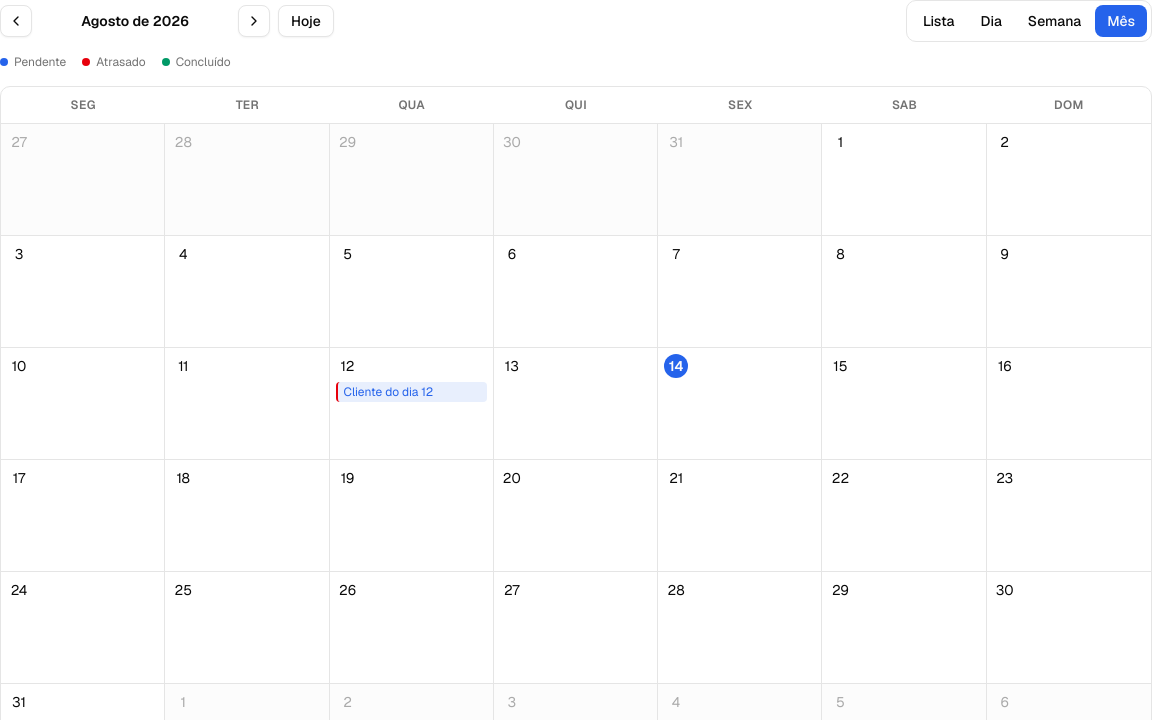
Test: Agenda2Calendario — diálogo do dia e ações do dono › fechar-dialogo: fechar remove o diálogo
Check: the text "Cliente do dia 12" is shown, box 344,384 -> 433,400
Step 1. Click the button with aria-label "12 de agosto" → (412, 404), box 330,348 -> 494,460
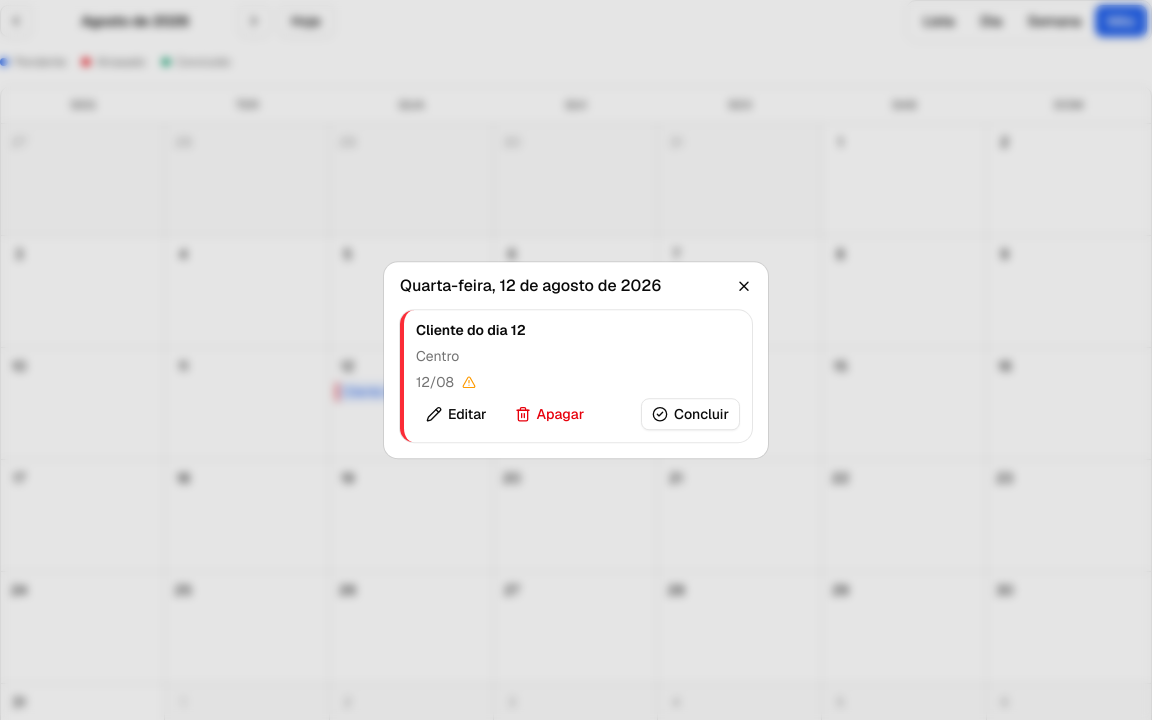
Step 2. Click the button named "close" → (744, 286), box 728,270 -> 760,302
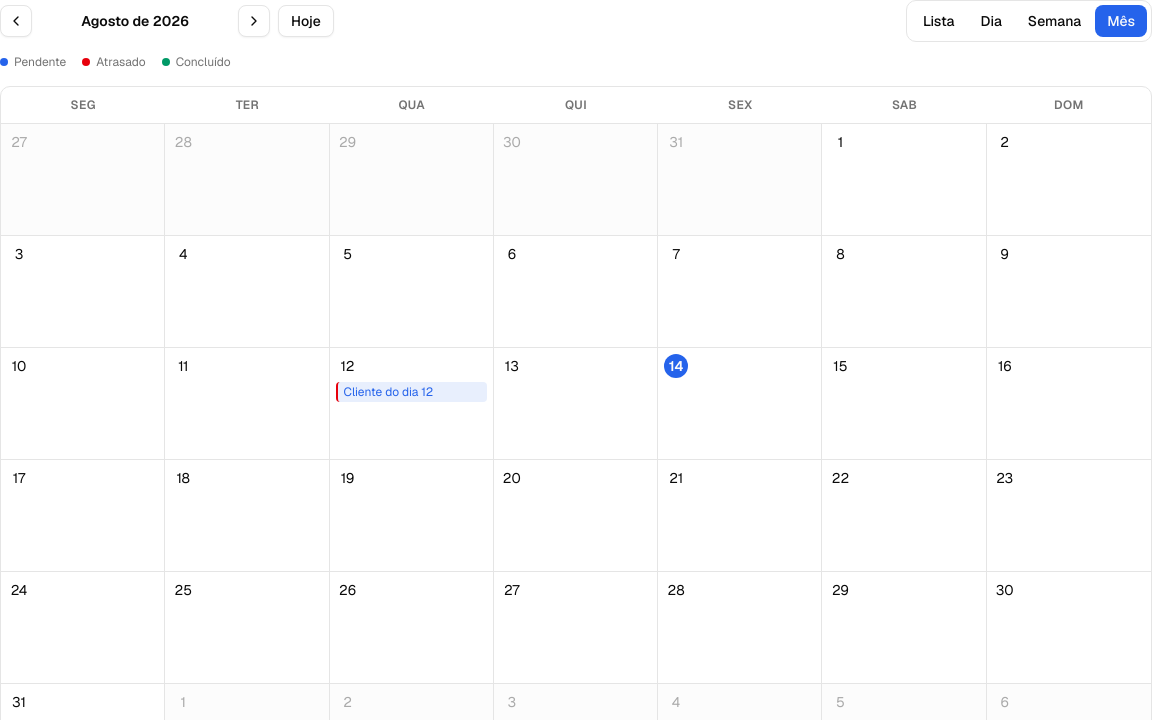
Check: the dialog is gone
